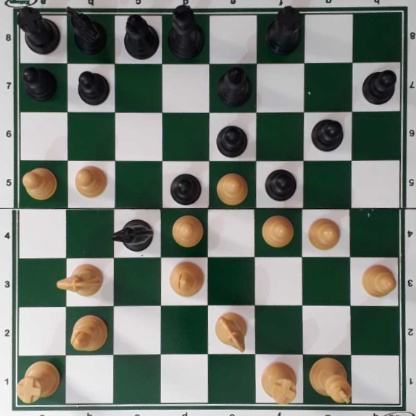black-bishop: (124, 11, 160, 59), (218, 64, 251, 106)
black-king: (167, 5, 205, 58)
black-knight: (69, 4, 106, 55), (110, 219, 153, 250)
black-pawn: (19, 63, 58, 101), (361, 68, 396, 105), (76, 68, 108, 105), (215, 123, 249, 157), (265, 166, 297, 201), (310, 117, 343, 150), (170, 171, 202, 204)
black-rook: (14, 6, 59, 52), (264, 5, 303, 53)
white-bishop: (70, 310, 106, 353), (169, 259, 204, 296)
white-king: (307, 355, 352, 404)
white-knight: (56, 263, 105, 298), (213, 310, 249, 351)
white-pawn: (360, 263, 396, 299), (215, 171, 249, 206), (261, 213, 295, 248), (22, 166, 58, 199), (307, 216, 340, 250), (74, 164, 106, 198), (171, 213, 203, 247)
white-rook: (13, 360, 62, 403), (259, 360, 298, 403)
